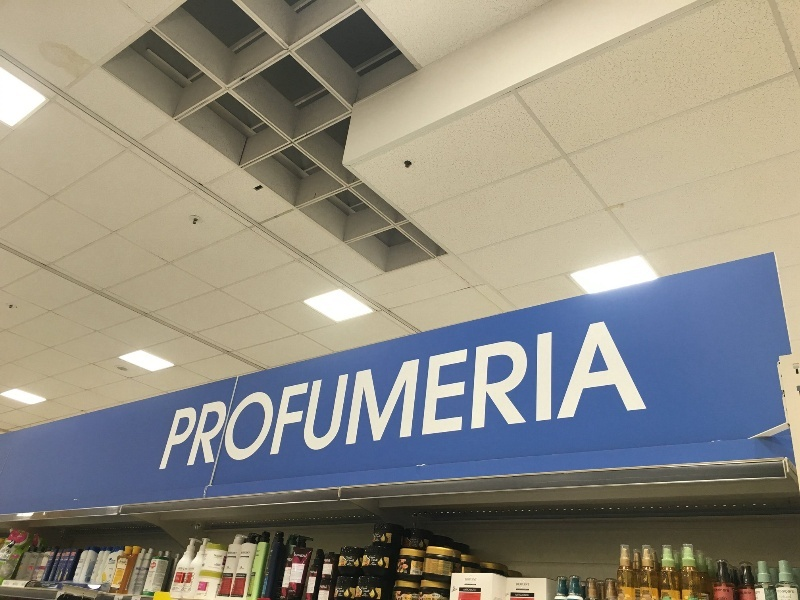text: (177, 320, 192, 474), (193, 320, 208, 474), (209, 320, 224, 474), (225, 320, 240, 474), (241, 320, 256, 474), (257, 320, 272, 474), (273, 320, 288, 474), (289, 320, 304, 474), (305, 320, 320, 474), (321, 320, 336, 474), (337, 320, 352, 474), (353, 320, 368, 474), (369, 320, 384, 474), (385, 320, 400, 474), (401, 320, 416, 474), (417, 320, 432, 474), (433, 320, 448, 474), (449, 320, 464, 474), (465, 320, 480, 474), (481, 320, 496, 474), (497, 320, 512, 474), (513, 320, 528, 474), (529, 320, 544, 474), (545, 320, 560, 474), (561, 320, 576, 474), (577, 320, 592, 474), (593, 320, 608, 474), (609, 320, 624, 474), (625, 320, 640, 474), (641, 320, 651, 474), (178, 567, 192, 593), (465, 578, 480, 592), (516, 583, 528, 597), (175, 320, 176, 474), (2, 549, 16, 560), (369, 556, 384, 566), (721, 589, 730, 600), (193, 567, 196, 593), (713, 589, 720, 600), (346, 556, 352, 566), (755, 591, 768, 595), (785, 590, 795, 595), (453, 587, 464, 591), (738, 592, 752, 595), (214, 554, 224, 558), (294, 554, 304, 558), (228, 552, 240, 555), (777, 590, 784, 595), (120, 560, 128, 564), (241, 552, 256, 554), (353, 556, 354, 566), (305, 554, 307, 558)
